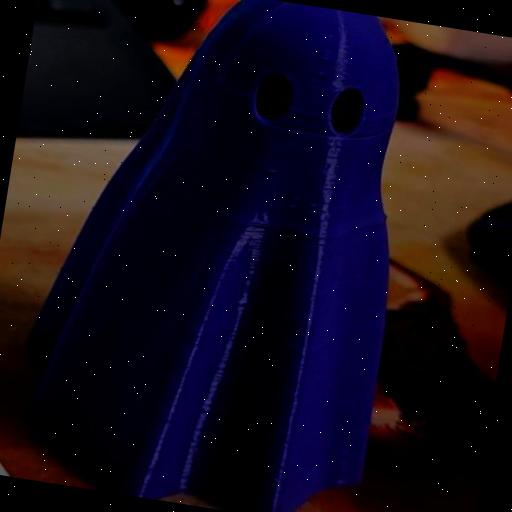blobs: (224, 346, 252, 369), (258, 158, 282, 184), (212, 405, 236, 423), (315, 46, 335, 65), (282, 201, 302, 217), (300, 205, 322, 219), (285, 190, 304, 206), (304, 196, 324, 210), (316, 66, 332, 80)
